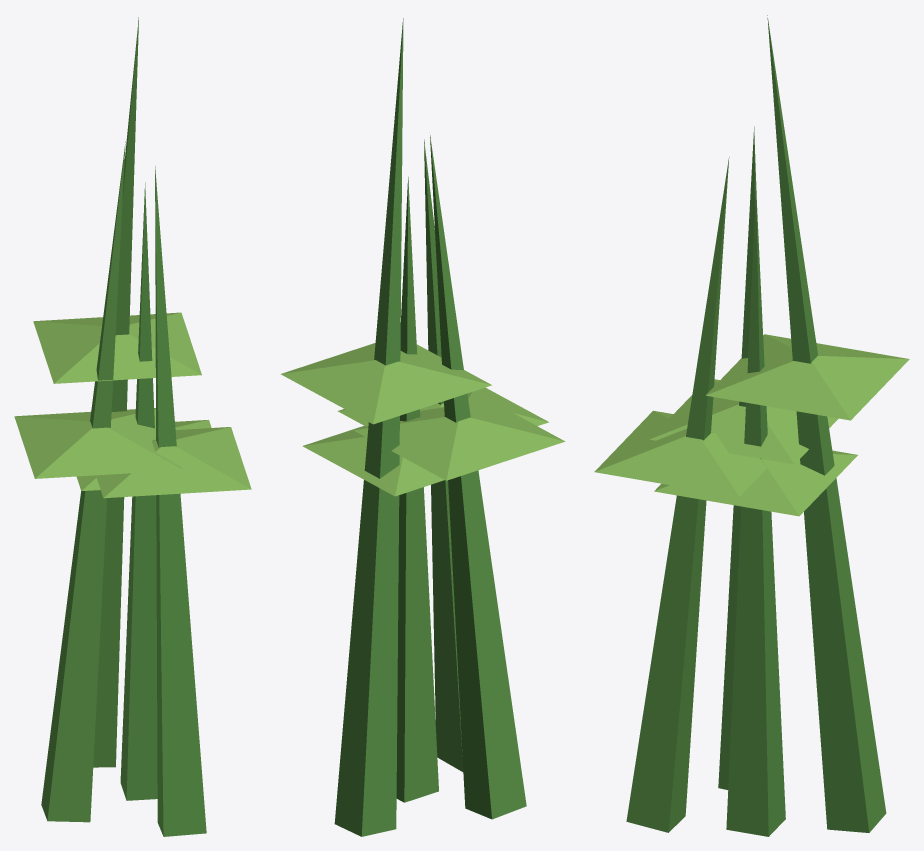
The model's file is world_horsetail_a.obj.
3 views of the same model, side by side, from view 1: azimuth 30°, elevation 25°; view 2: azimuth 150°, elevation 25°; view 3: azimuth 270°, elevation 25° (orthographic). The views are drawn at different scales.
Parts seen in each view (by area): view 1: world_horsetail_a; view 2: world_horsetail_a; view 3: world_horsetail_a.
Boxes of the visible parts, left/top/right/bottom form: world_horsetail_a: left=14, top=17, right=251, bottom=836; world_horsetail_a: left=280, top=18, right=565, bottom=836; world_horsetail_a: left=594, top=15, right=909, bottom=836.
Size of the model in its own units: 1.3 by 4.44 by 1.56.
